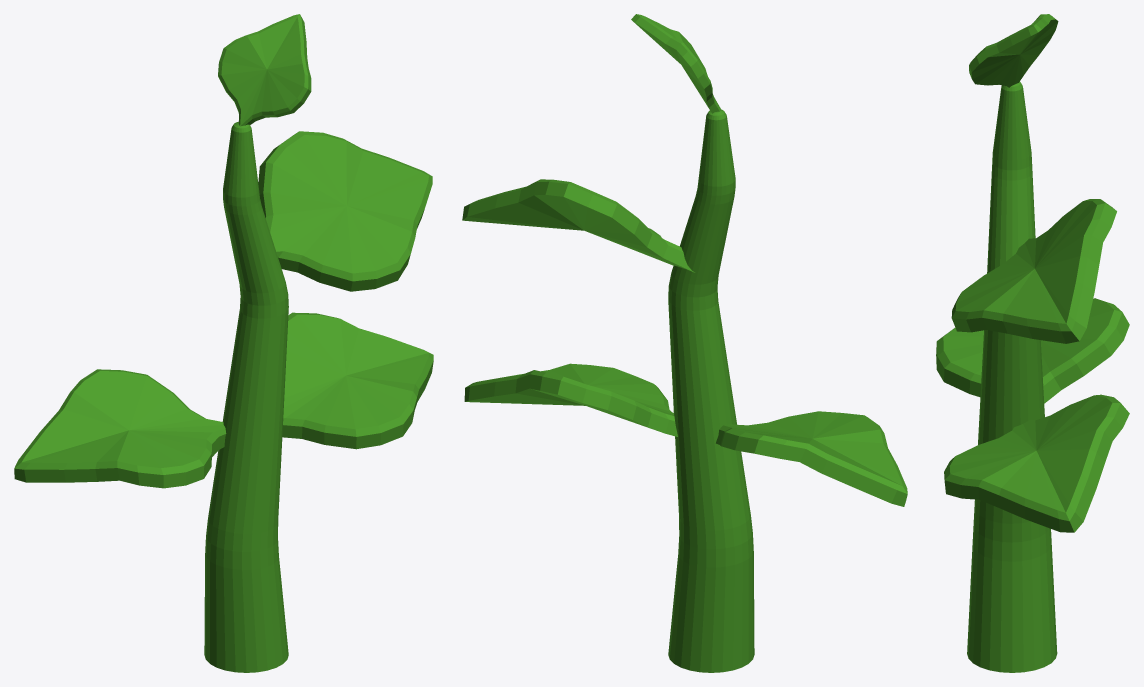
File: PlantaMedia.fbx
3 renders of one model, left to right at view 1: azimuth 30°, elevation 25°; view 2: azimuth 150°, elevation 25°; view 3: azimuth 270°, elevation 25°, orthographic. The views are drawn at different scales.
Parts seen in each view (by area): view 1: Cylinder.002; view 2: Cylinder.002; view 3: Cylinder.002.
Boxes of the visible parts, bbox=[...] form: Cylinder.002: bbox=[14, 14, 433, 672]; Cylinder.002: bbox=[462, 14, 907, 672]; Cylinder.002: bbox=[936, 14, 1129, 672].
Bounding box in the file's own units: 234 × 325 × 86.27.
